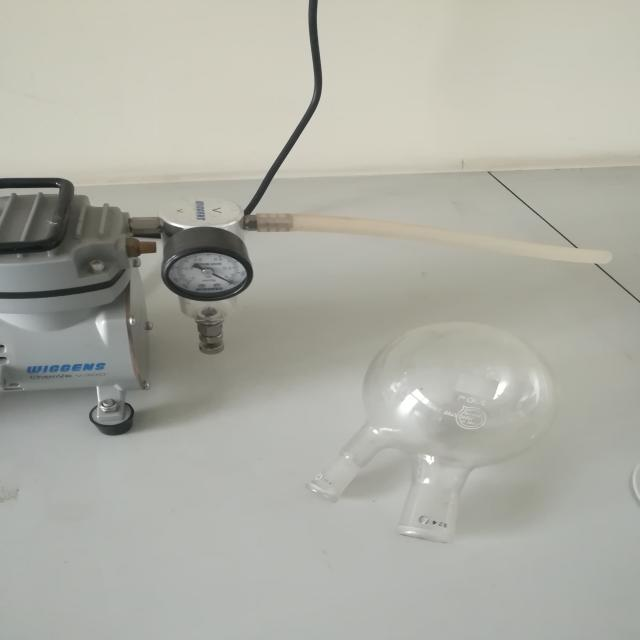Round_Bottom_Flask_Borosilicate_Glass_2_Neck: (288, 307, 580, 572)
